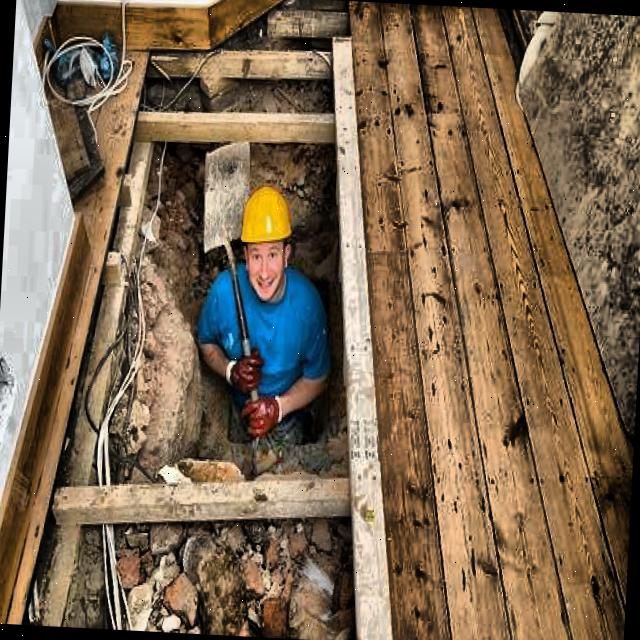helmet: (230, 170, 305, 300)
